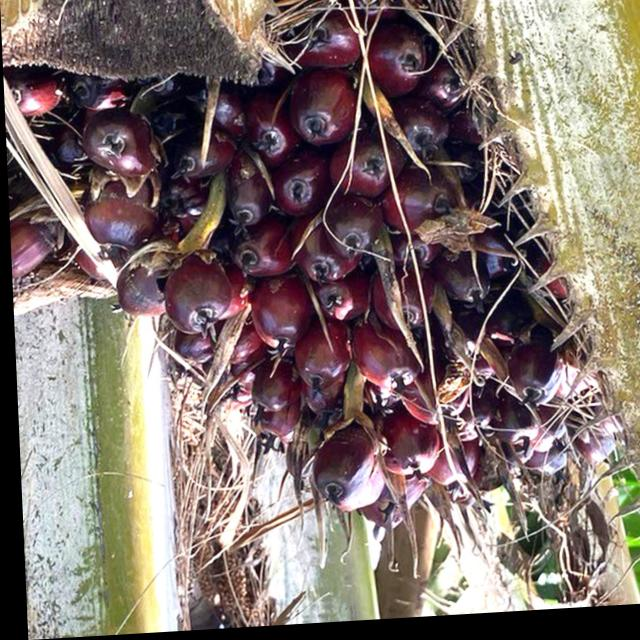ripe: (1, 0, 634, 612)
